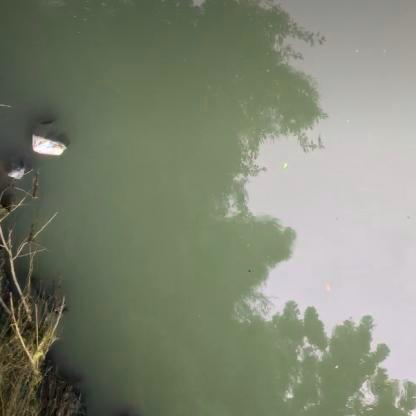Trash: (30, 133, 66, 155)
